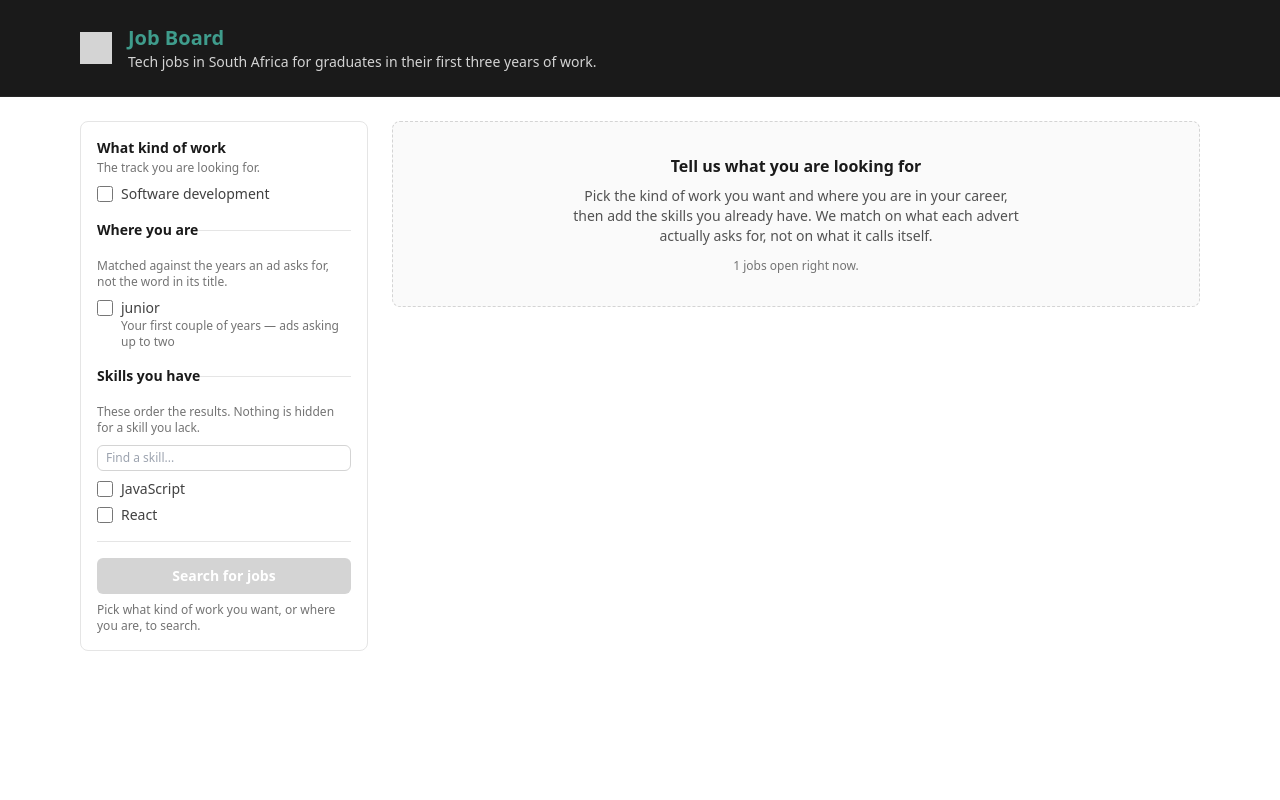
Test case: App › matches on the years an ad states, not the word in its title
Expected: the text "1 jobs open right now." is shown, [733, 257, 859, 274]
Click the checkbox labelled "junior Your first couple of years — ads asking up to two" at (105, 308), box [97, 300, 113, 316]
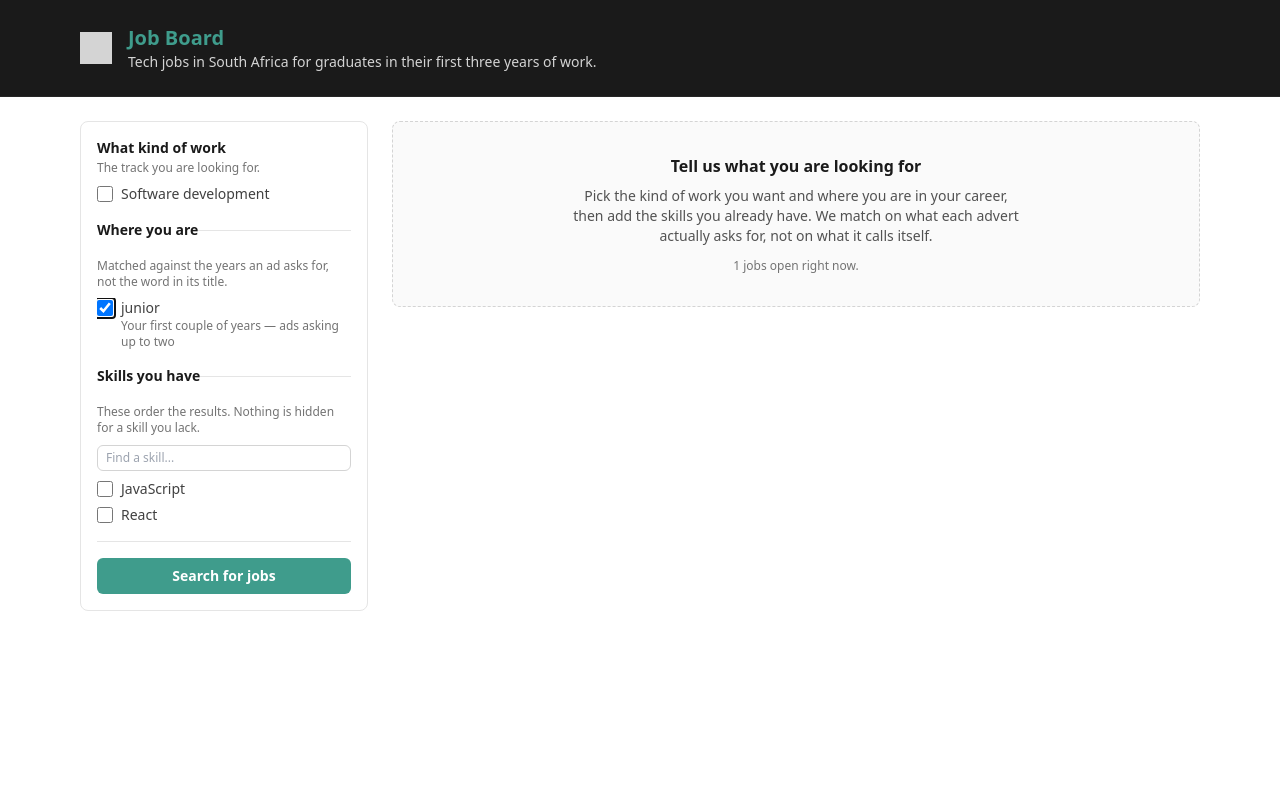
Click the button "Search for jobs" at (224, 576), box [97, 558, 351, 594]
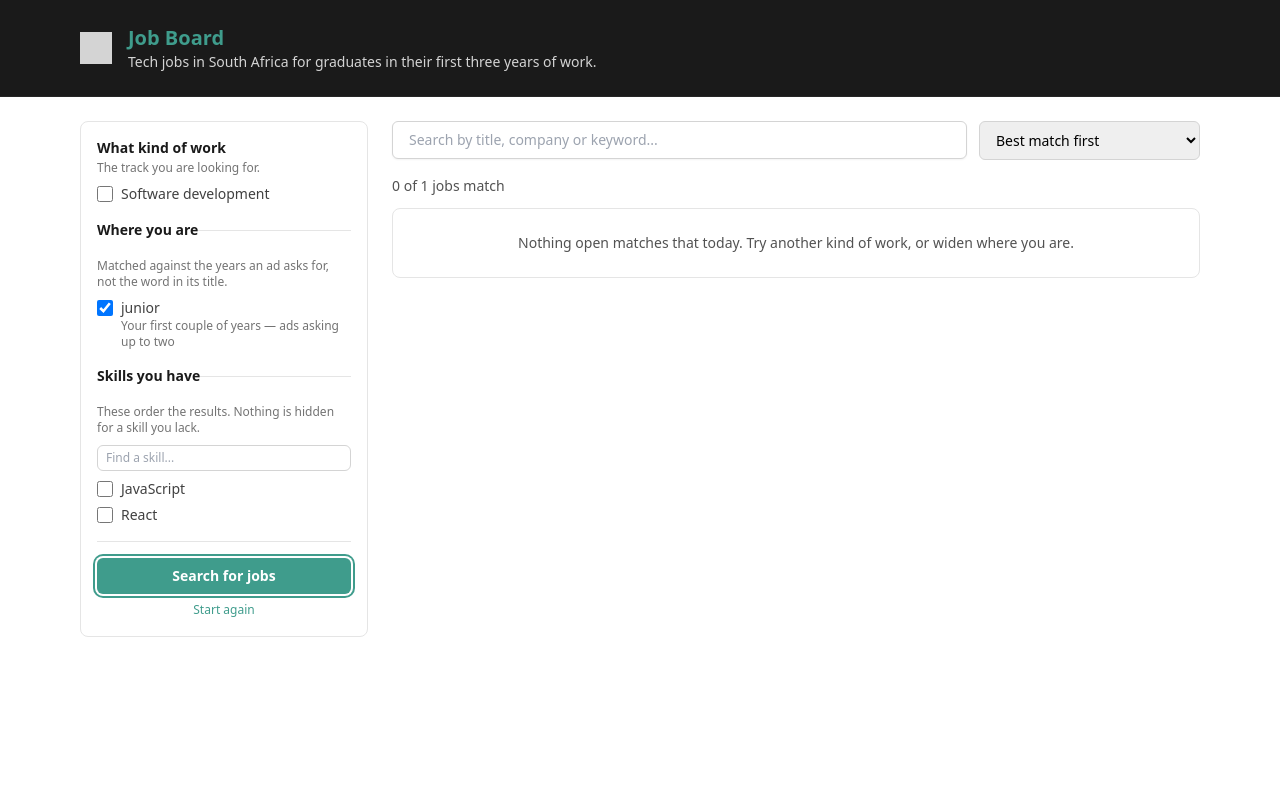
Expected: the text "0 of 1 jobs match" is shown, [392, 176, 505, 195]
Expected: the text "Nothing open matches that today" is shown, [518, 233, 1074, 252]
